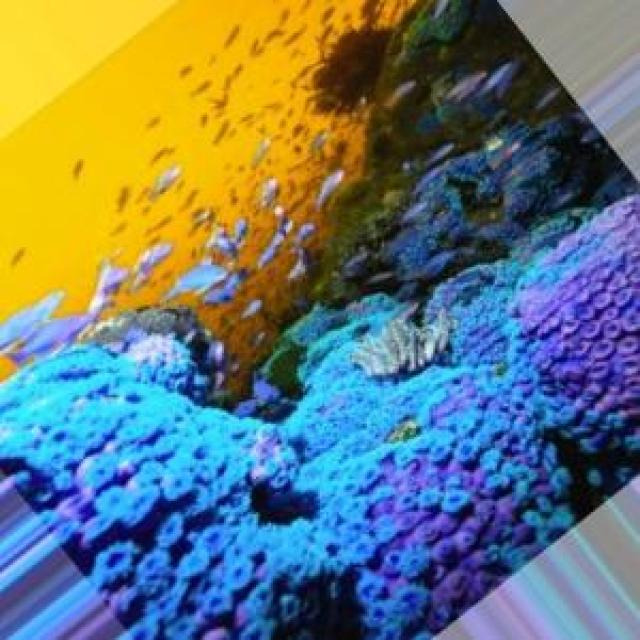Healthy: (234, 237, 560, 581), (1, 350, 319, 637), (349, 361, 573, 640), (517, 195, 640, 453)
